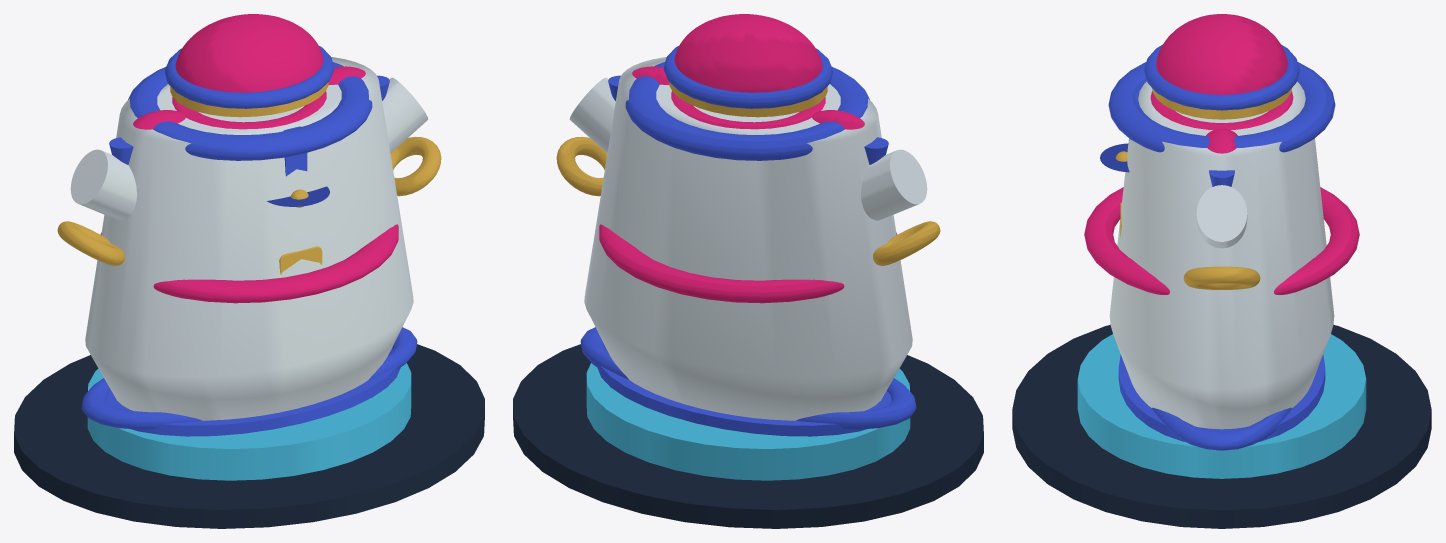
The model's file is 0267_世界古代文明图鉴_野猪牙头盔.glb.
3 views of the same model, side by side, from view 1: azimuth 30°, elevation 25°; view 2: azimuth 150°, elevation 25°; view 3: azimuth 270°, elevation 25° (orthographic). The views are drawn at different scales.
Parts seen in each view (by area): view 1: card_0267; view 2: card_0267; view 3: card_0267.
Boxes of the visible parts, <box> form: card_0267: <box>14,14,484,528</box>; card_0267: <box>513,14,983,528</box>; card_0267: <box>1012,14,1431,528</box>.
Size of the model in its own units: 1.07 by 1 by 0.9399.
